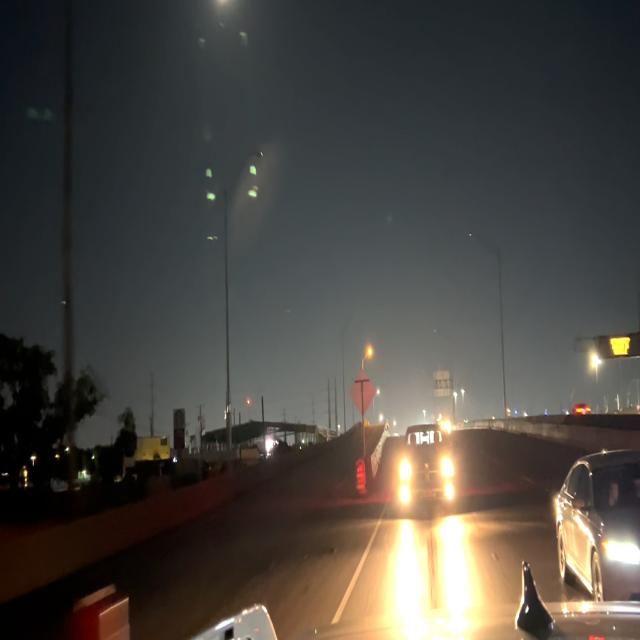back-of-sign: (349, 372, 375, 418)
